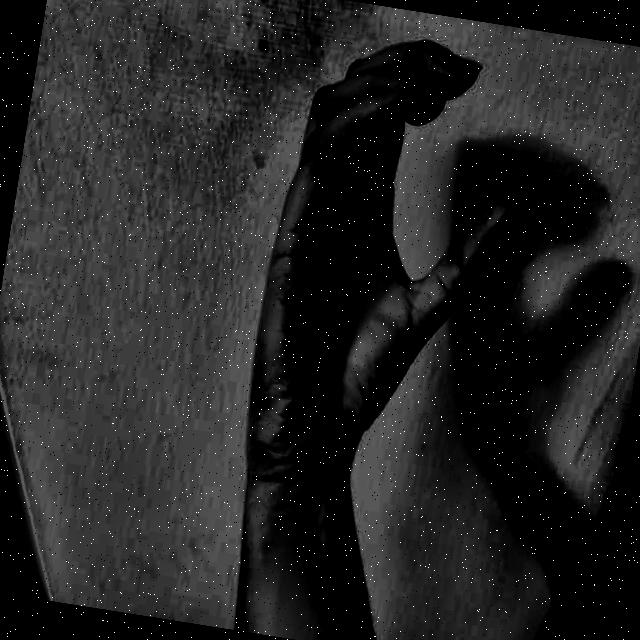A: (222, 3, 557, 534)
